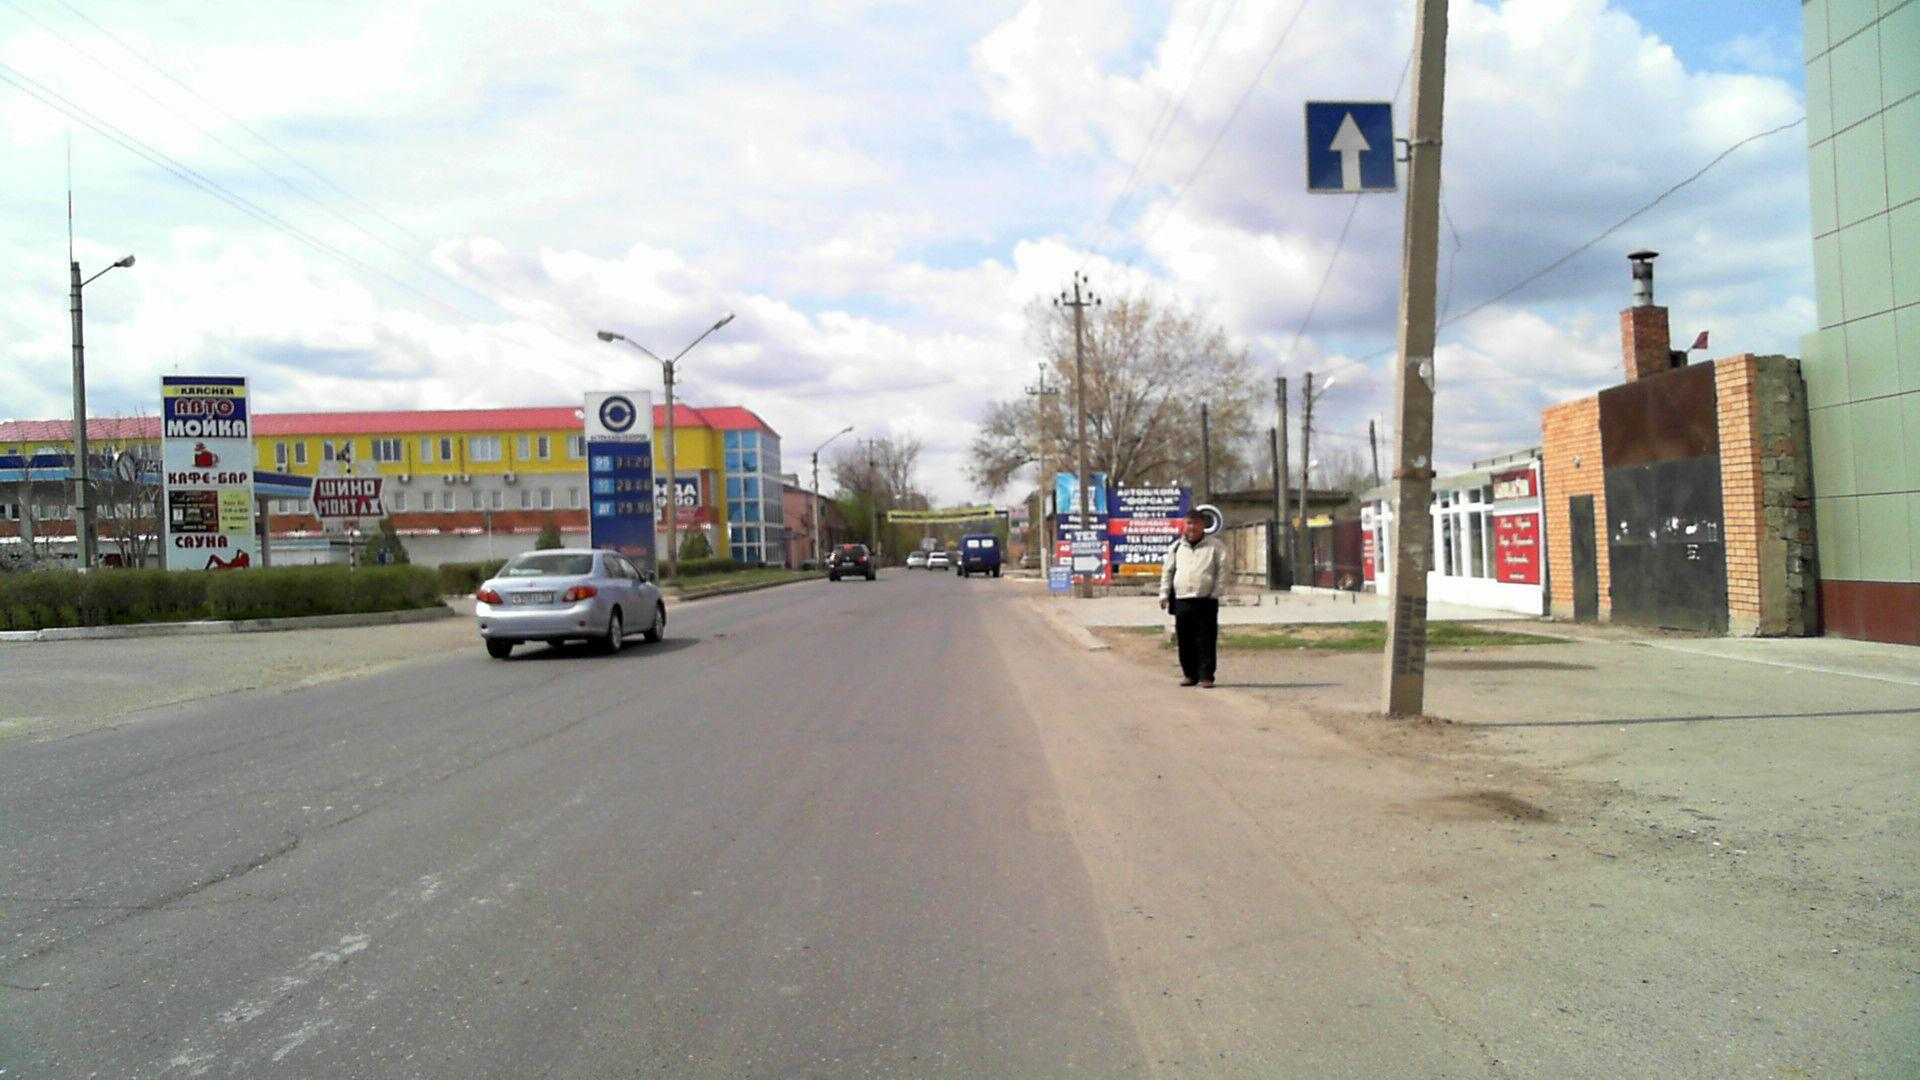5_5: (1308, 96, 1399, 194)
